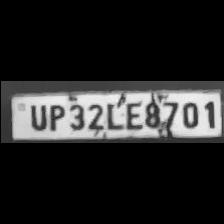0: (178, 99, 200, 130)
1: (200, 99, 220, 129)
2: (84, 100, 104, 132)
3: (65, 100, 85, 130)
7: (160, 98, 178, 132)
8: (141, 98, 161, 130)
E: (122, 98, 142, 130)
L: (104, 99, 122, 130)
P: (44, 101, 64, 131)
U: (24, 101, 46, 131)
